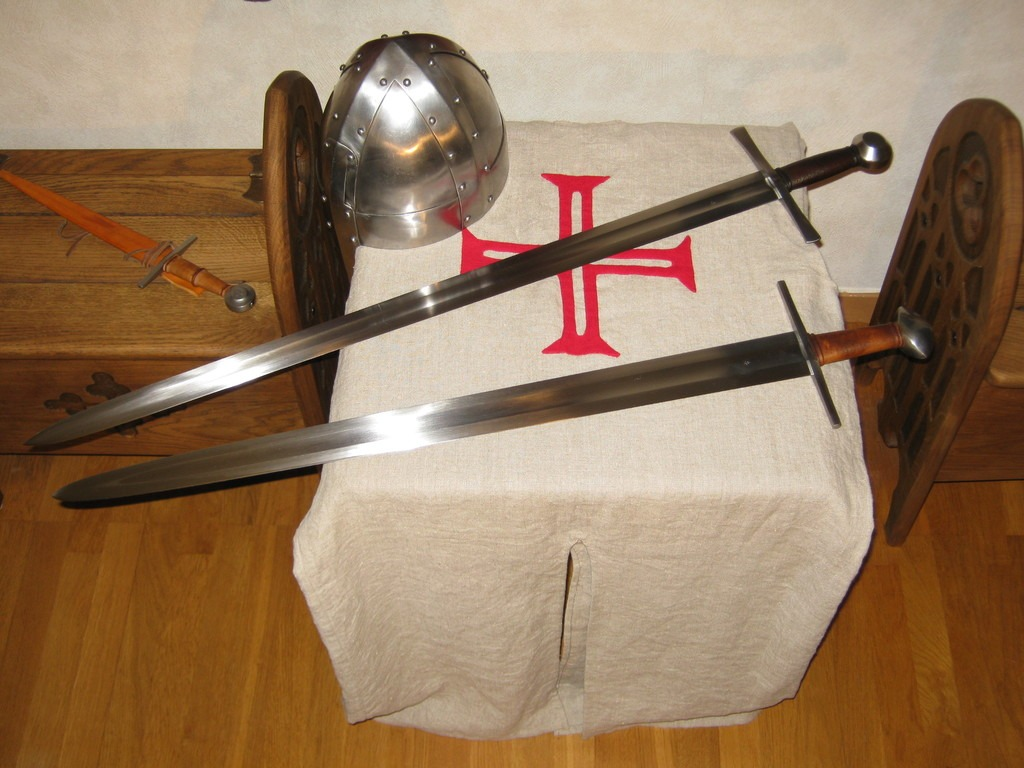sword: (45, 92, 932, 425), (73, 292, 943, 508)
